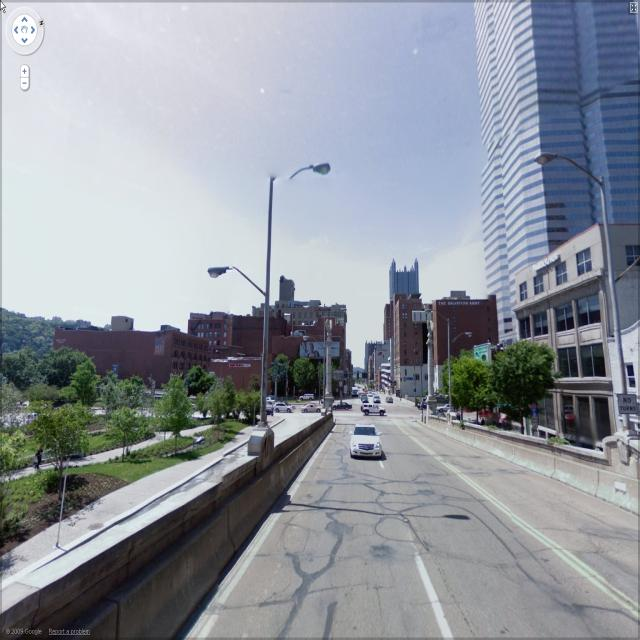b_1: (475, 7, 640, 278), (514, 231, 624, 450), (39, 323, 221, 382), (421, 288, 504, 411), (278, 292, 361, 387), (383, 264, 431, 424)
b_2: (434, 298, 554, 432)
